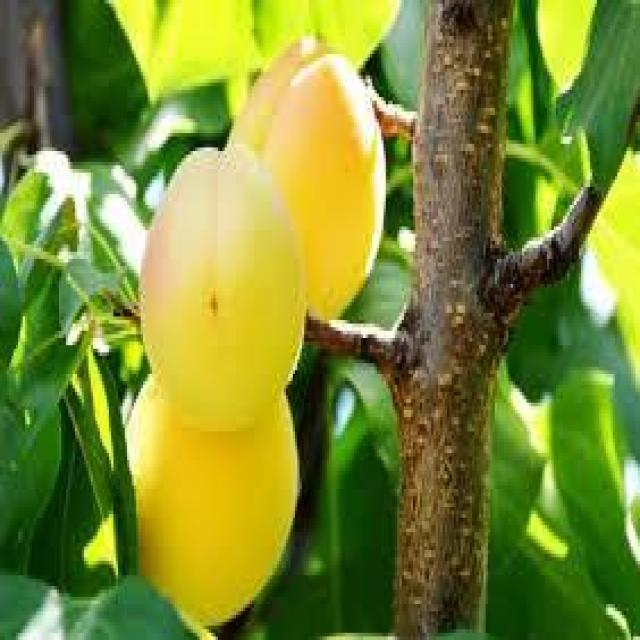kayisi: (133, 140, 314, 441), (120, 366, 311, 633), (221, 33, 391, 326)
yaprak: (546, 349, 640, 640), (550, 0, 640, 216)
